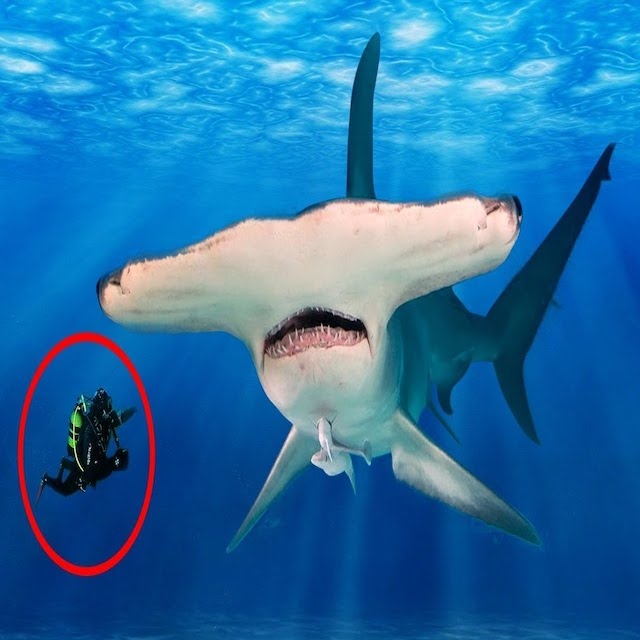hammerhead: (95, 181, 555, 463)
